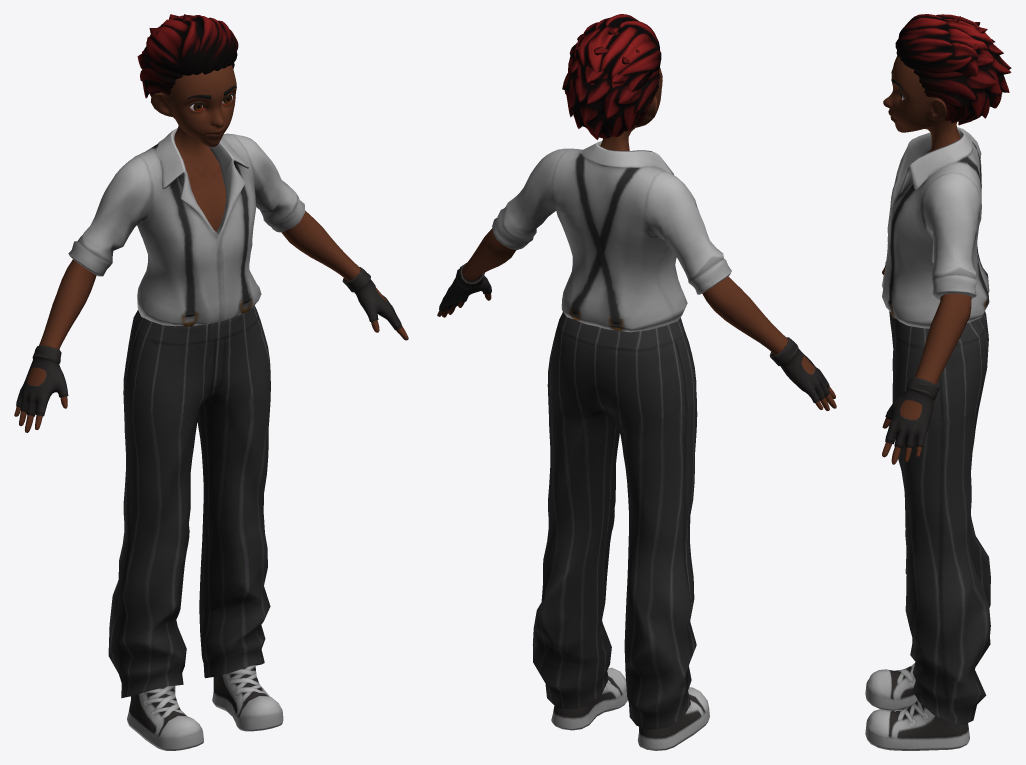
Rendered from StaffNadia_Mesh.obj.
3 renders of one model, left to right at view 1: azimuth 30°, elevation 25°; view 2: azimuth 150°, elevation 25°; view 3: azimuth 270°, elevation 25°, orthographic.
Parts seen in each view (by area): view 1: StaffNadia_Mesh_0; view 2: StaffNadia_Mesh_0; view 3: StaffNadia_Mesh_0.
Boxes of the visible parts, x1=… form: StaffNadia_Mesh_0: x1=14, y1=14, x2=408, y2=750; StaffNadia_Mesh_0: x1=437, y1=14, x2=836, y2=750; StaffNadia_Mesh_0: x1=865, y1=14, x2=1011, y2=750.
Bounding box in the file's own units: 1.06 × 1.84 × 0.3456.
Materials: 1 (1 with a texture image).
